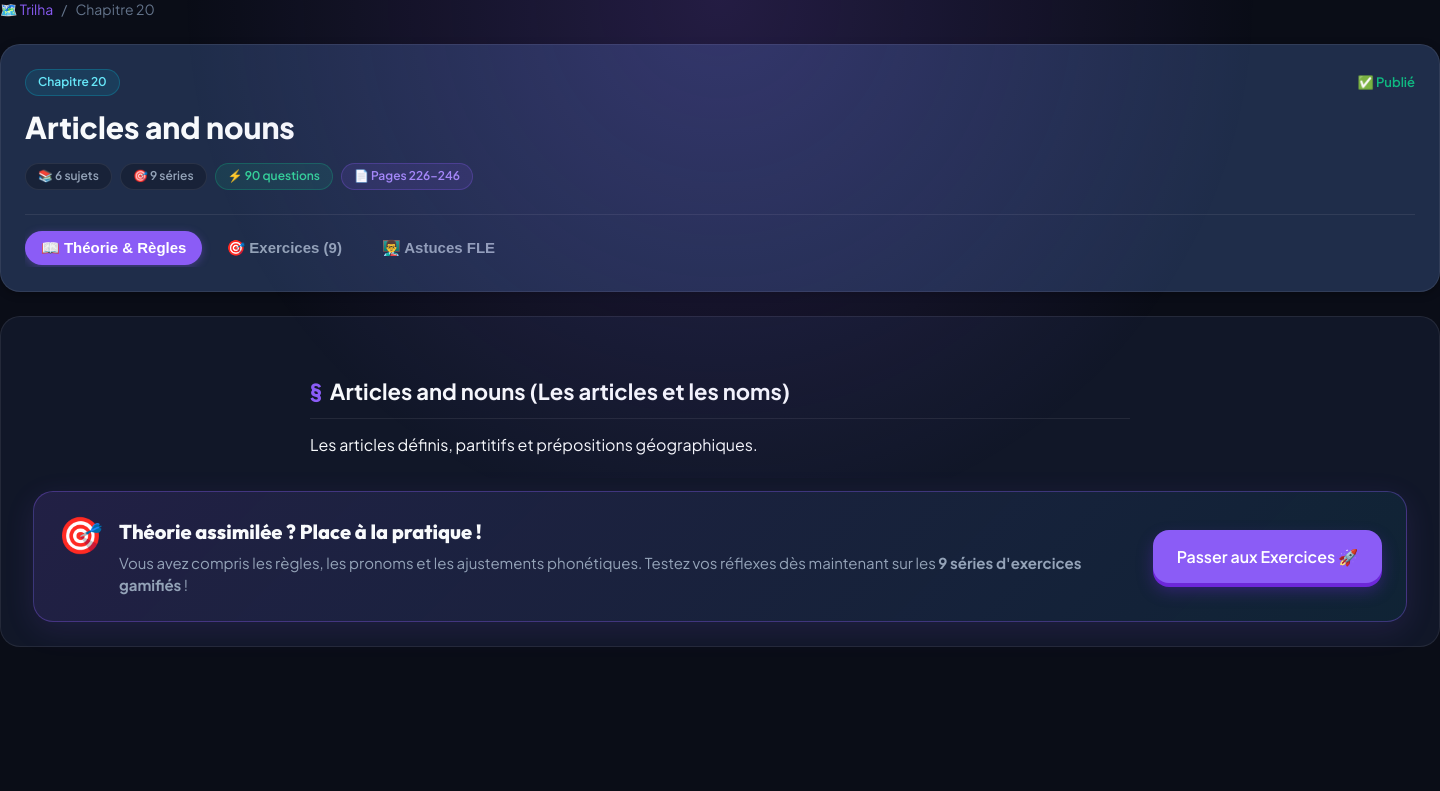
ChapterPage Component › affiche la théorie, les 9 séries d exercices et les astuces FLE pour le chapitre 20 (Articles and nouns)
Check: the heading "Articles and nouns" is shown, box top-left (25, 108), bottom-right (295, 146)
Check: the text "Les articles définis, partitifs et prépositions géographiques" is shown, box top-left (310, 434), bottom-right (758, 455)
// Passage à l'onglet Exercices
Click the tab "🎯 Exercices (9)".
click(284, 248)  # box top-left (210, 231), bottom-right (358, 265)
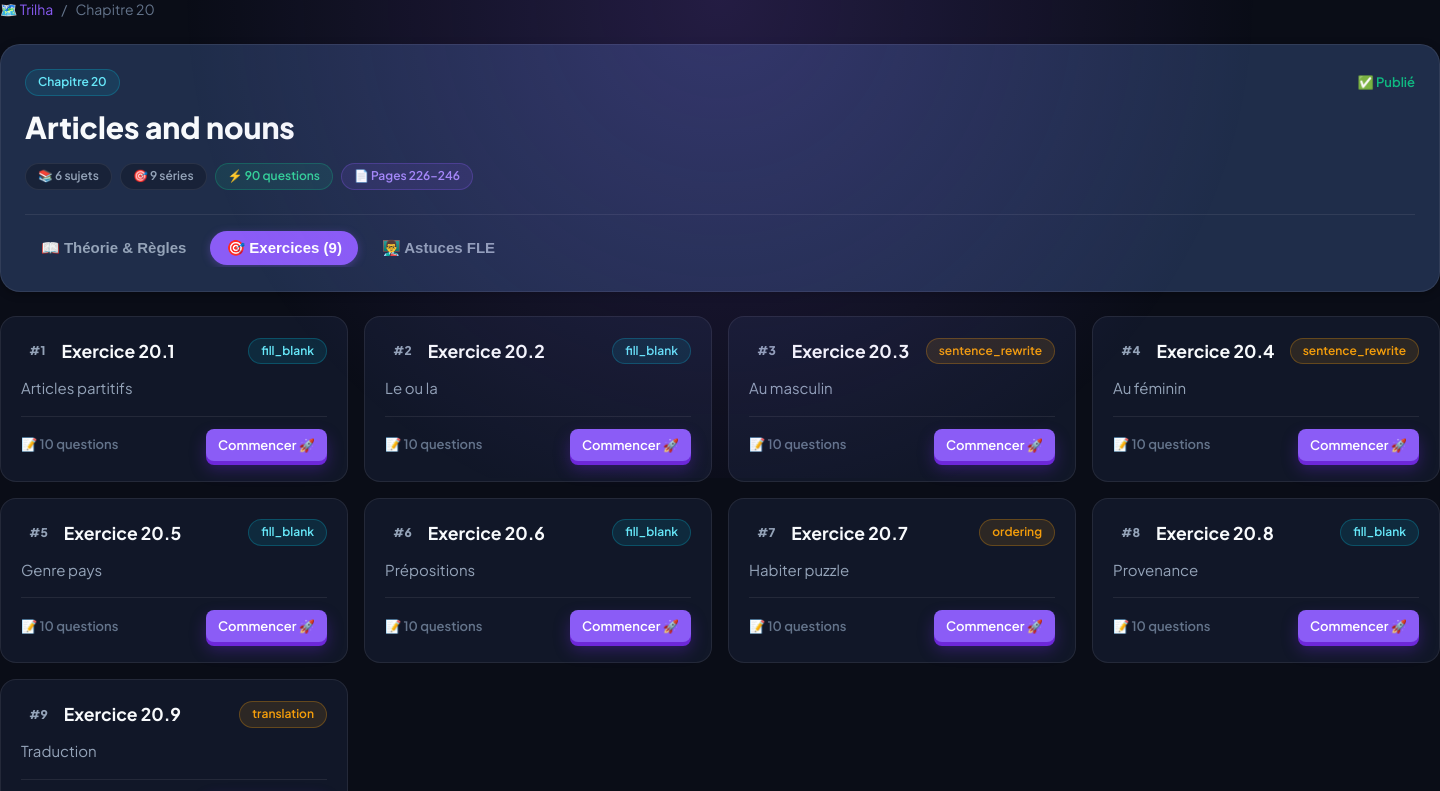
Check: the heading "Exercice 20.1" is shown, box top-left (62, 337), bottom-right (175, 365)
Check: the heading "Exercice 20.7" is shown, box top-left (791, 519), bottom-right (908, 547)
Check: the heading "Exercice 20.9" is shown, box top-left (64, 700), bottom-right (181, 728)
// Passage à l'onglet Astuces FLE
Click the tab "👨‍🏫 Astuces FLE".
click(438, 248)  # box top-left (366, 231), bottom-right (511, 265)
(page scrolled)
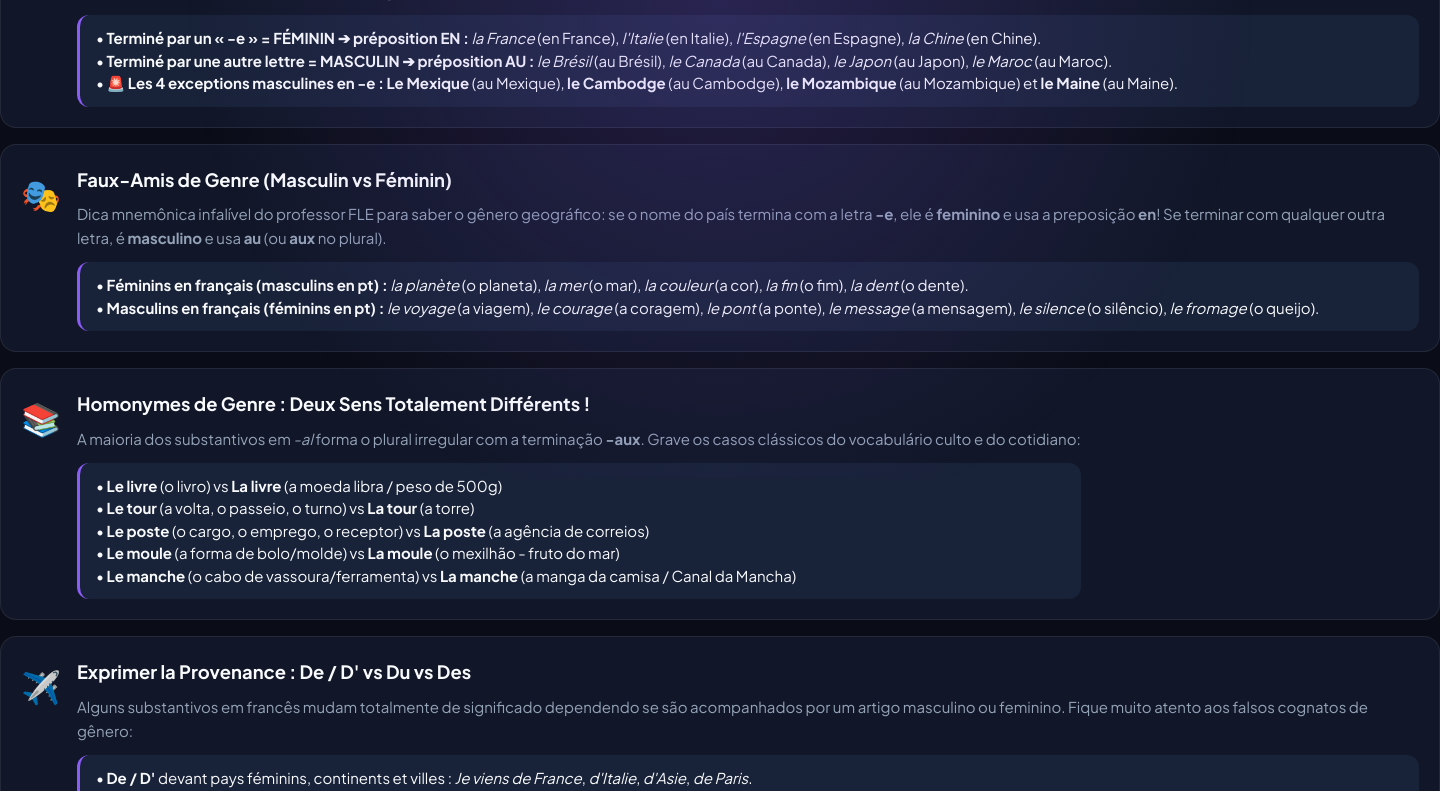
Check: the heading "Homonymes de Genre : Deux Sens Totalement Différents !" is shown, box top-left (77, 392), bottom-right (590, 415)
